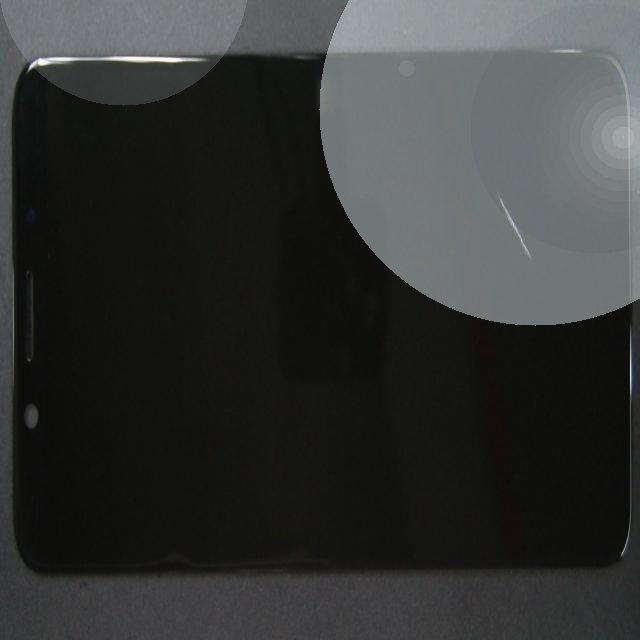scratch: (245, 96, 640, 290)
